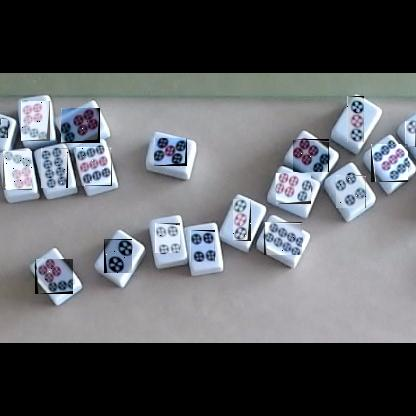2p: (104, 239, 132, 273)
3p: (347, 96, 364, 142), (233, 199, 251, 241), (405, 121, 416, 147), (0, 119, 8, 138)
4p: (336, 175, 366, 208), (190, 230, 215, 262), (155, 223, 180, 253)
5p: (154, 138, 187, 166)
6p: (61, 108, 100, 143), (293, 139, 329, 172), (275, 173, 311, 204)
7p: (35, 259, 73, 294), (21, 101, 50, 141), (3, 151, 32, 190)
8p: (264, 222, 302, 255), (41, 148, 68, 188)
9p: (371, 144, 408, 182), (76, 147, 112, 186)
